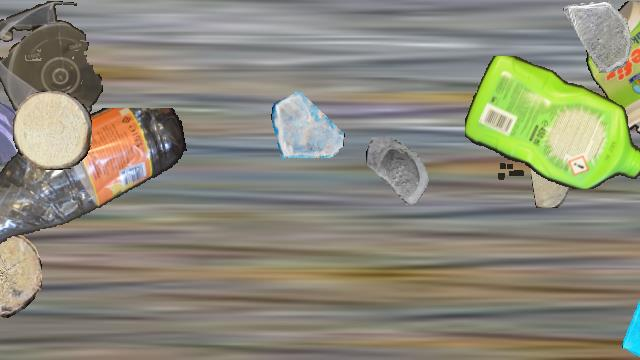glass: (365, 137, 441, 213), (271, 88, 345, 162), (563, 1, 635, 73), (0, 89, 41, 173), (620, 285, 640, 359)
plastic: (0, 108, 189, 248), (465, 56, 640, 188), (0, 1, 104, 133), (585, 1, 640, 139)
wood: (13, 91, 91, 169), (0, 232, 42, 318), (531, 134, 569, 208)
